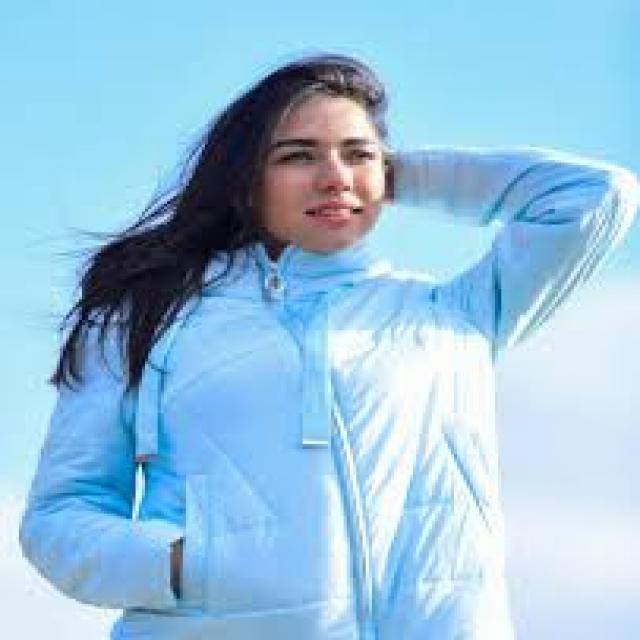Jacket: (66, 170, 586, 640)
